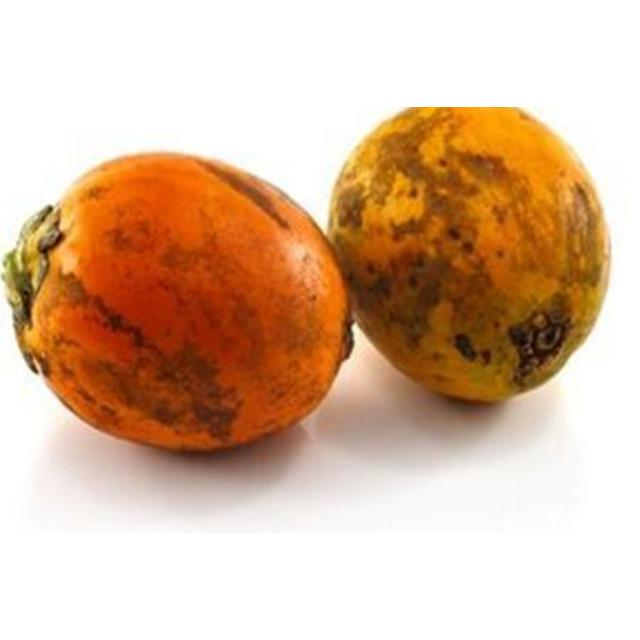good: (0, 153, 354, 455), (323, 107, 613, 406)
